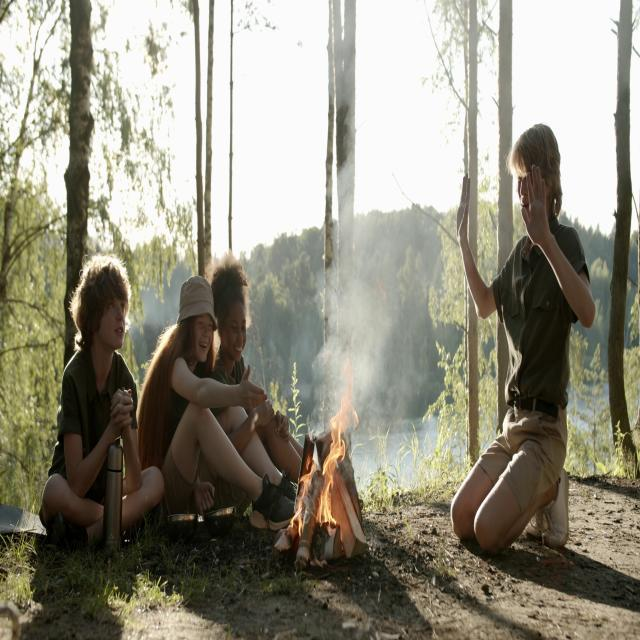Fire: (291, 380, 369, 548)
Smoke: (302, 109, 448, 402)
